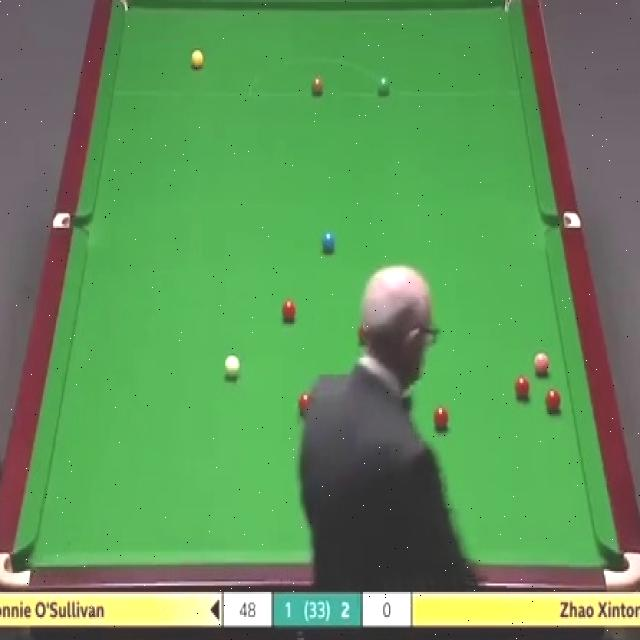blue-ball: (323, 228, 335, 252)
brown-ball: (310, 76, 326, 95)
green-ball: (376, 74, 391, 96)
pink-ball: (533, 351, 550, 374)
red-ball: (544, 388, 563, 412), (432, 406, 451, 429), (514, 374, 529, 399), (281, 300, 298, 322), (299, 392, 313, 418)
white-ball: (222, 354, 240, 379)
yellow-ball: (190, 48, 204, 70)
